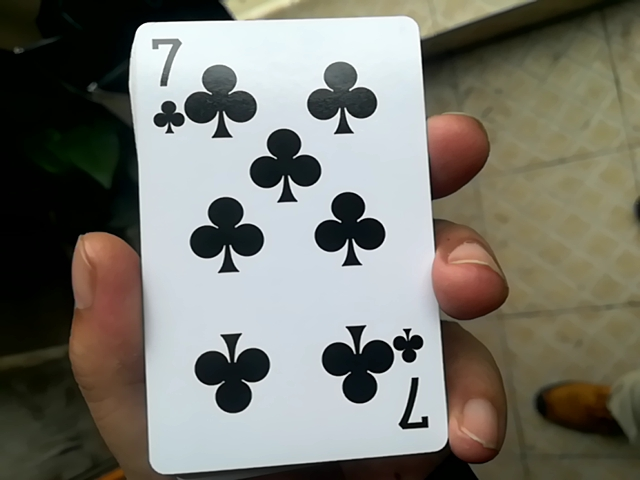mh 7: (117, 19, 456, 473)
